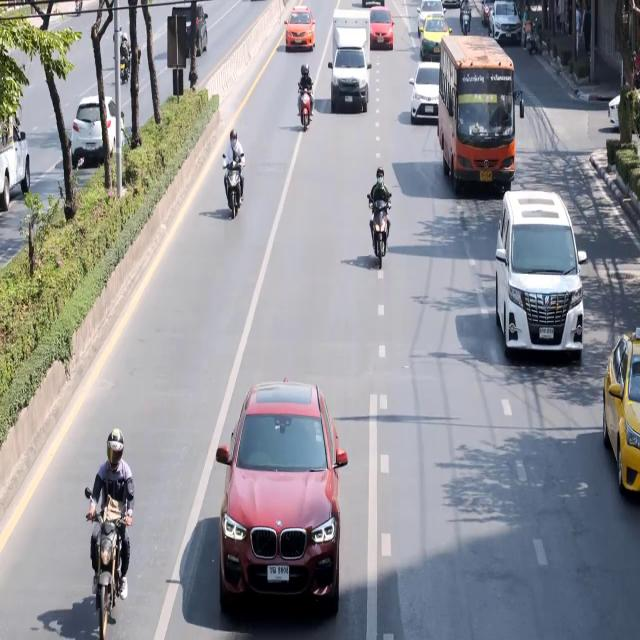bike: (82, 428, 134, 633), (370, 164, 392, 264), (225, 128, 246, 218), (298, 65, 315, 128)
bus: (437, 34, 518, 190)
car: (222, 382, 344, 614), (498, 190, 584, 363), (602, 331, 640, 489), (71, 96, 117, 169), (407, 64, 439, 122), (488, 2, 525, 42), (284, 8, 317, 50), (420, 17, 451, 59), (367, 8, 394, 49), (420, 0, 447, 21)
truck: (332, 9, 371, 111)
